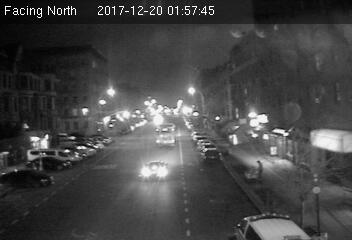car: (140, 161, 170, 181)
police: (231, 210, 316, 240)
